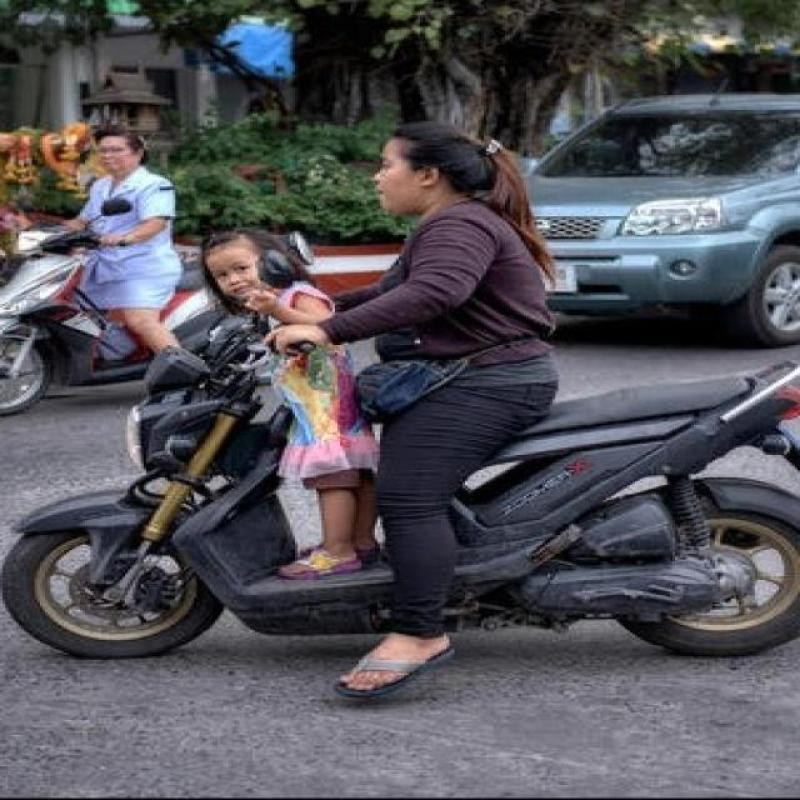nohelmet: (353, 115, 522, 216), (190, 224, 294, 300), (90, 118, 148, 180)
